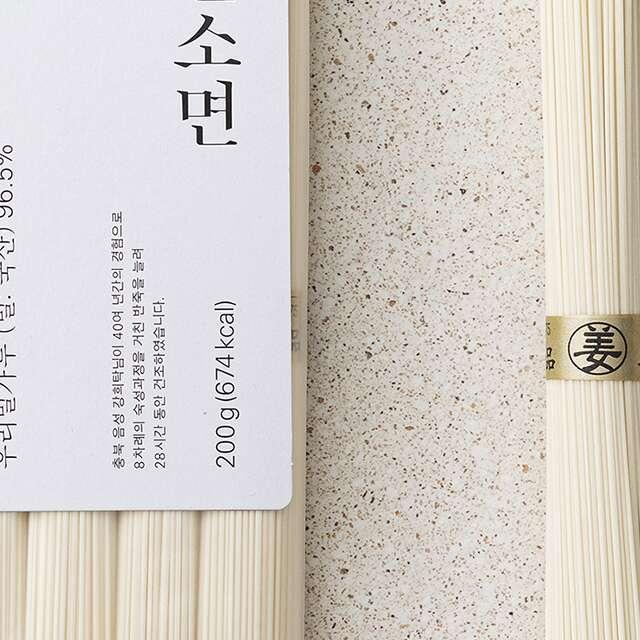noodles: (490, 0, 640, 640)
